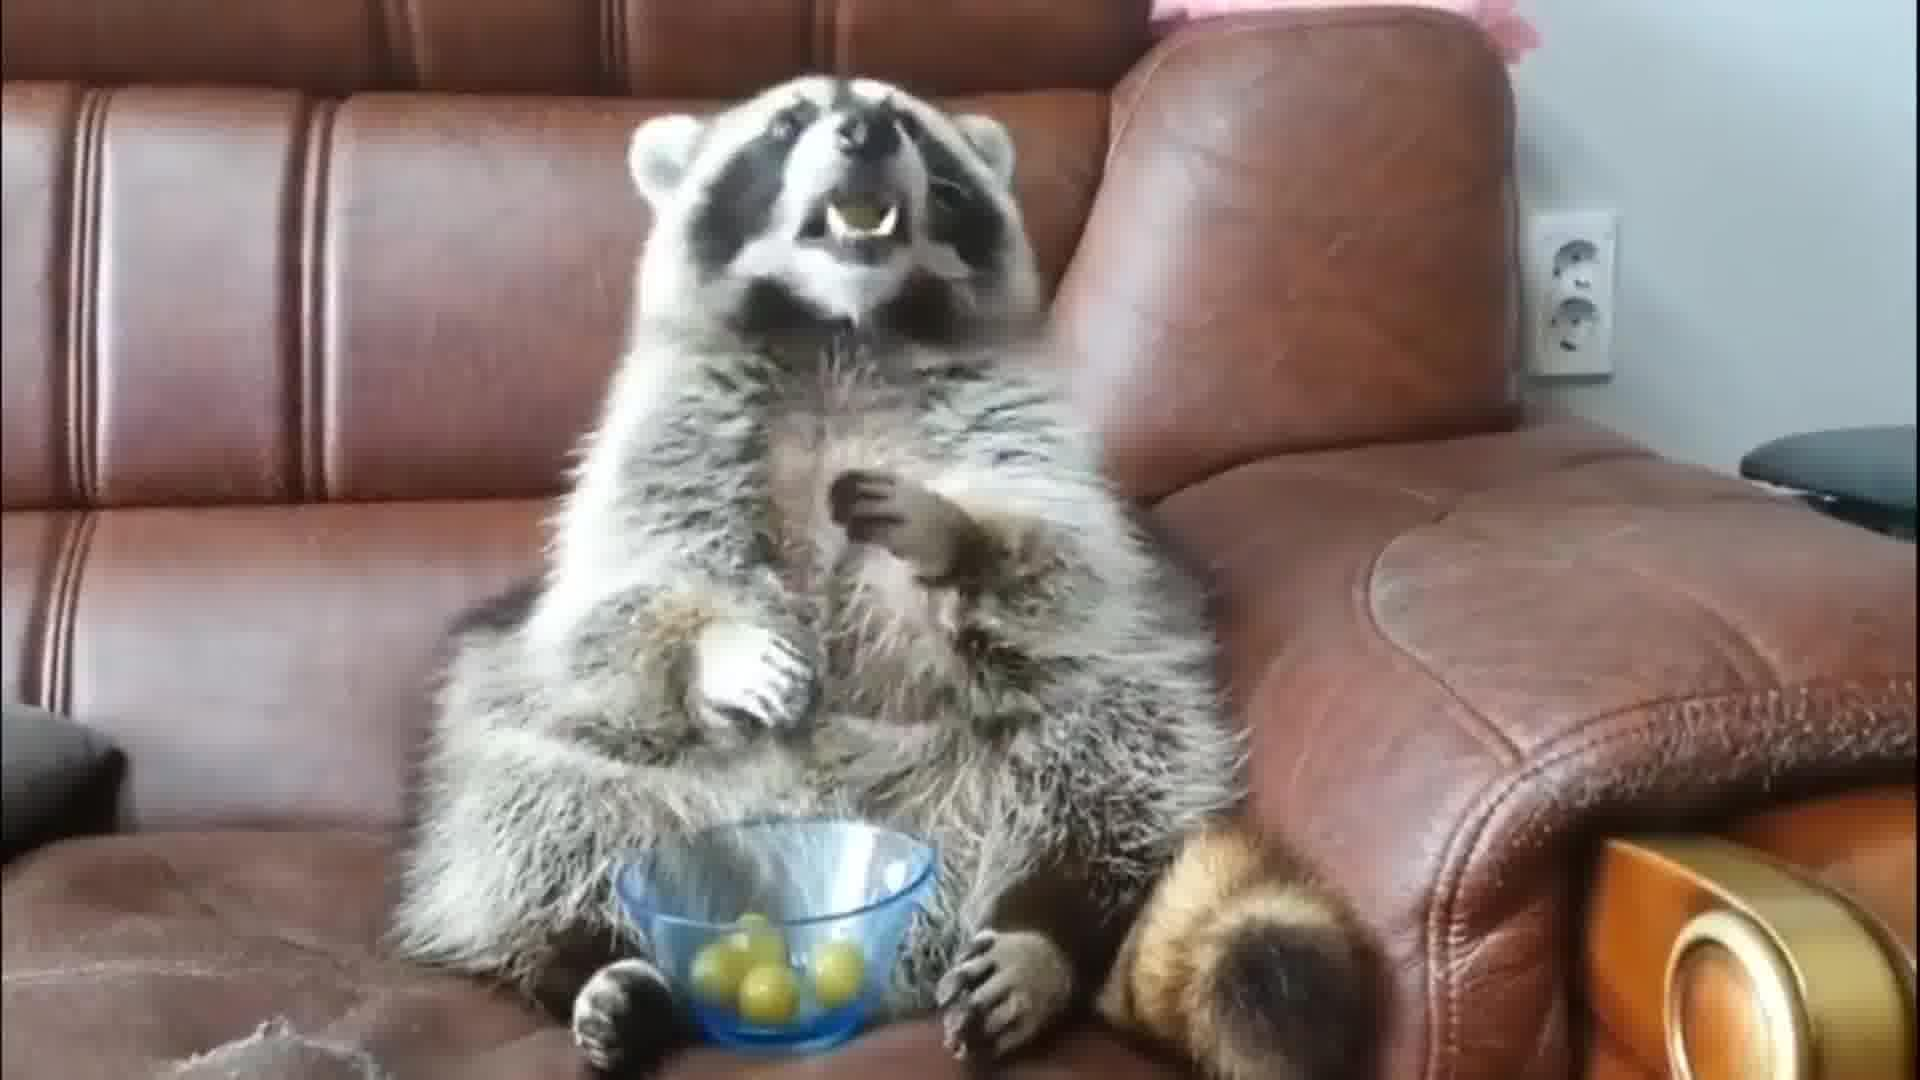raccoon: (401, 73, 1377, 1080)
